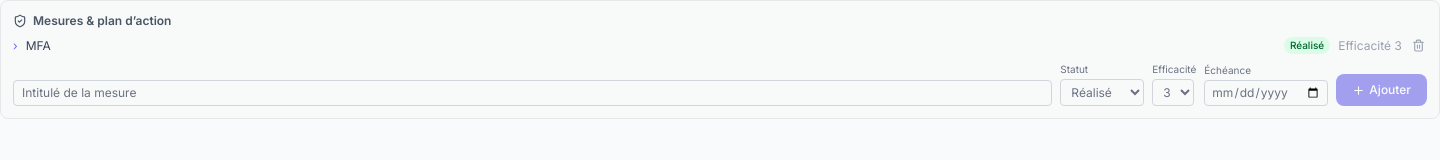
Test: RiskMesures › supprime une mesure (DELETE)
The image size is (1440, 160).
Expected: the text "MFA" is shown, [26,38,51,53]
Click the button named "Supprimer". click: (1418, 46)
box: [1410,37,1427,54]
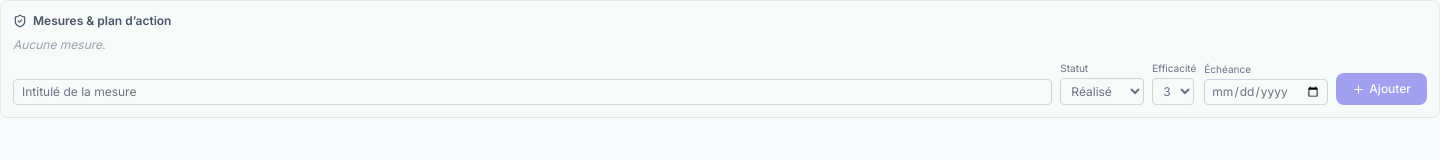
Result: the text "MFA" is gone
